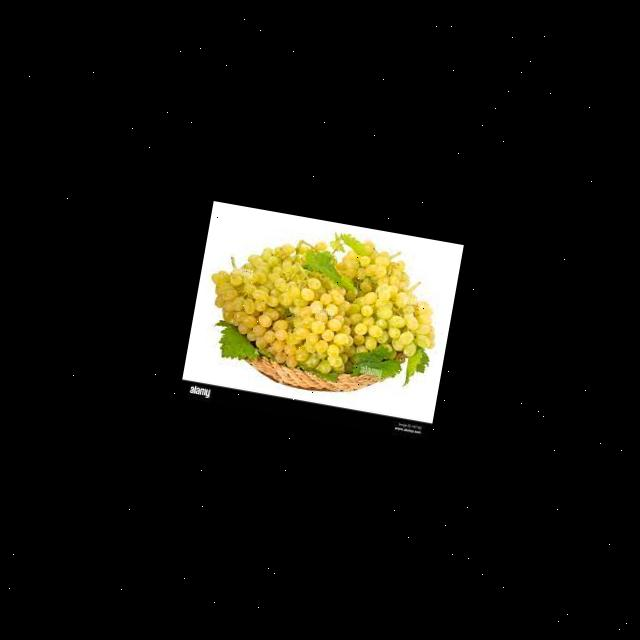grape: (196, 210, 448, 392)
